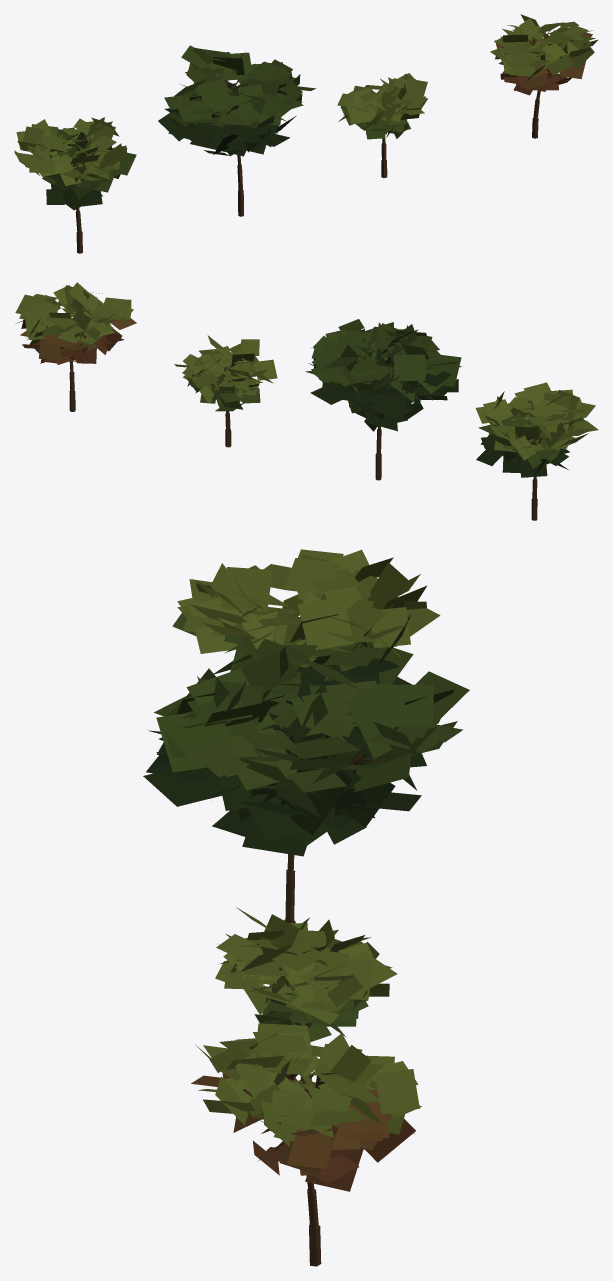
Rendered from trees.glb.
3 views of the same model, one above another, from view 1: azimuth 30°, elevation 25°; view 2: azimuth 150°, elevation 25°; view 3: azimuth 270°, elevation 25° (orthographic). The views are drawn at different scales.
Visible parts, largest first — view 1: tree_b, tree_a, tree_d, tree_c; view 2: tree_b, tree_a, tree_d, tree_c; view 3: tree_b, tree_d, tree_a, tree_c.
Boxes of the visible parts, bbox=[...] form: tree_b: bbox=[158, 45, 316, 216]; tree_a: bbox=[14, 117, 136, 253]; tree_d: bbox=[490, 14, 598, 138]; tree_c: bbox=[337, 73, 427, 177]; tree_b: bbox=[305, 319, 461, 480]; tree_a: bbox=[475, 382, 598, 520]; tree_d: bbox=[15, 282, 136, 411]; tree_c: bbox=[174, 335, 277, 447]; tree_b: bbox=[143, 638, 469, 923]; tree_d: bbox=[191, 1023, 421, 1266]; tree_a: bbox=[172, 549, 440, 685]; tree_c: bbox=[215, 907, 397, 1089].
Bounding box in the file's own units: 25.63 × 6.06 × 6.33.
